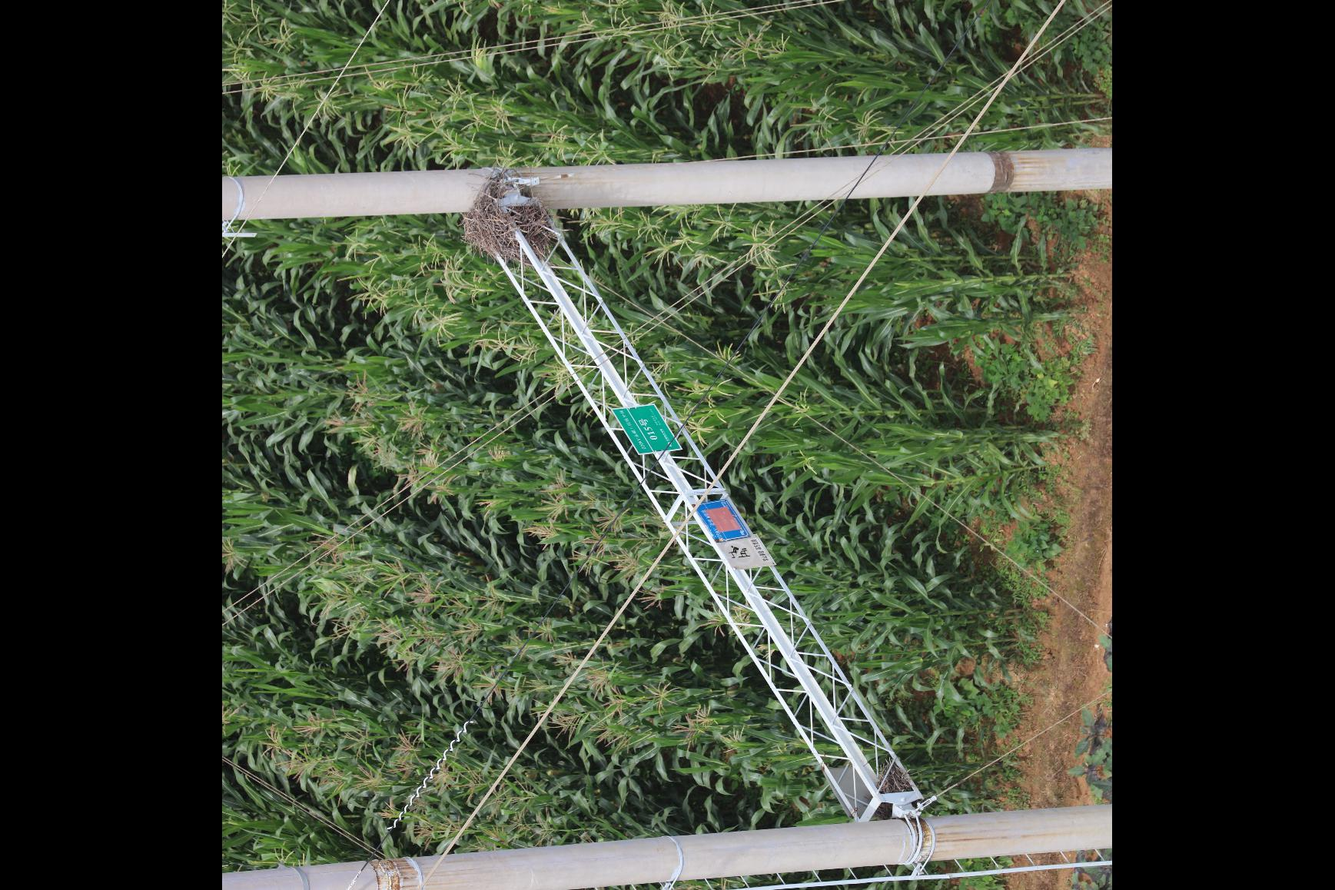nest: (457, 173, 557, 270), (861, 753, 915, 822)
